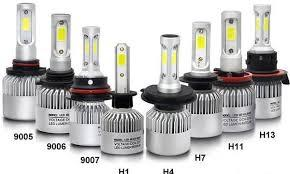Lamp: (204, 7, 260, 131), (142, 33, 195, 154), (32, 13, 81, 138), (68, 18, 113, 148), (99, 41, 147, 157), (3, 3, 47, 127), (243, 1, 284, 125), (185, 20, 225, 138)
